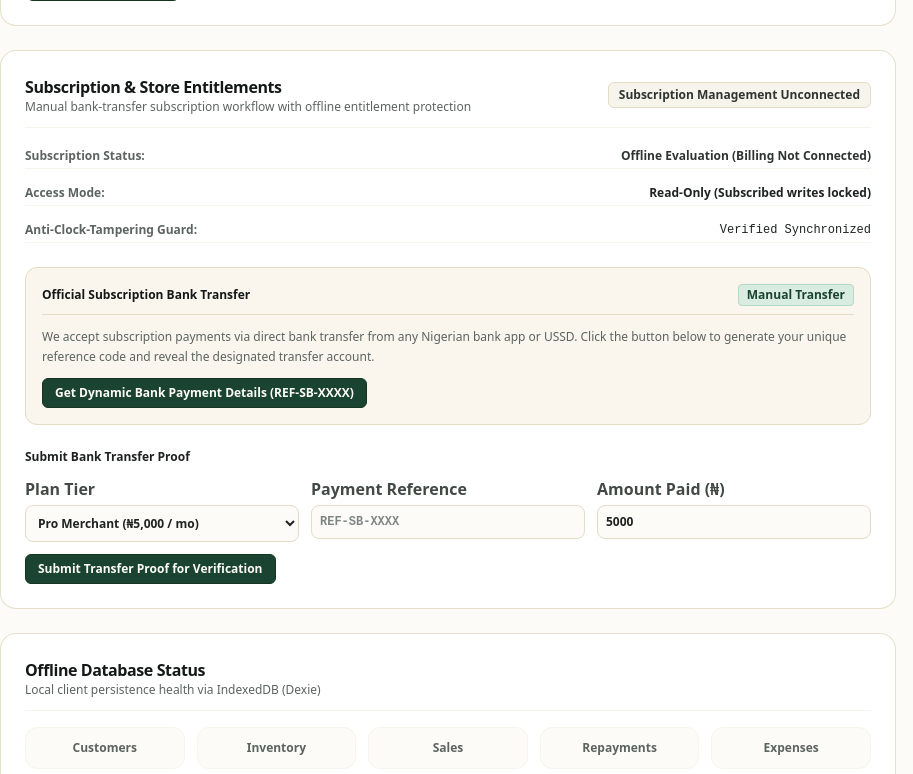
Test case: Frontend 9-Module Integration & Architecture Suite › 4. SBM-042 Dynamic Bank Instructions in Settings › loads dynamic bank details and unique reference code
The image size is (913, 774).
(page scrolled)
Click the button "Get Dynamic Bank Payment Details (REF-SB-XXXX)" at (204, 393), box [42,378,367,408]
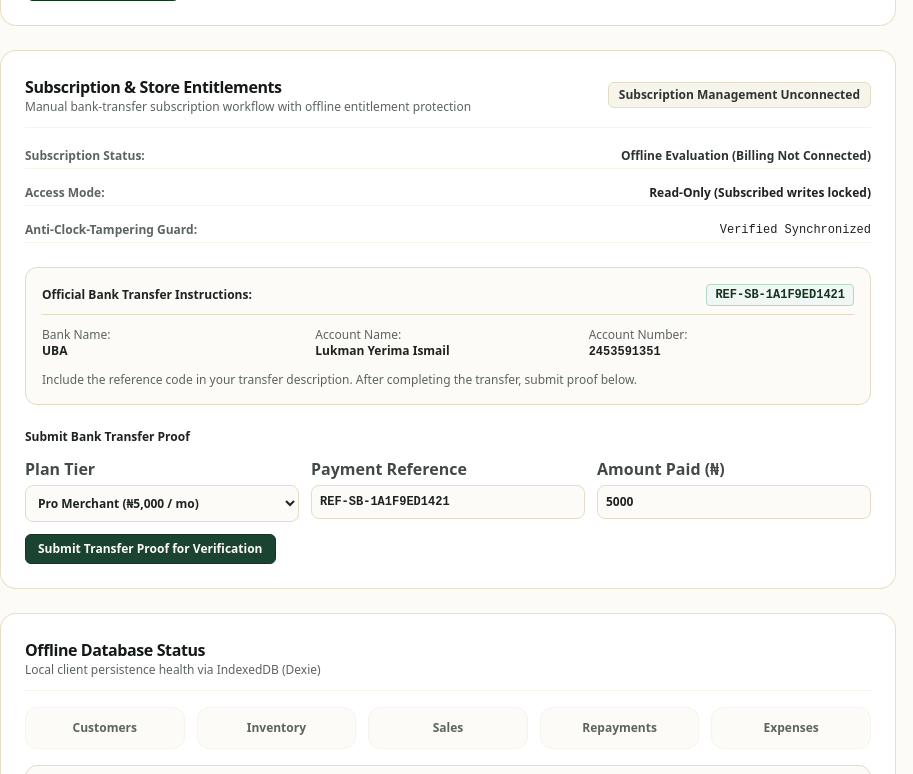
Result: the text "Official Bank Transfer Instructions:" is shown at [42,287,252,303]
Result: the text "UBA" is shown at [42,342,67,359]
Result: the text "2453591351" is shown at [589,345,661,359]
